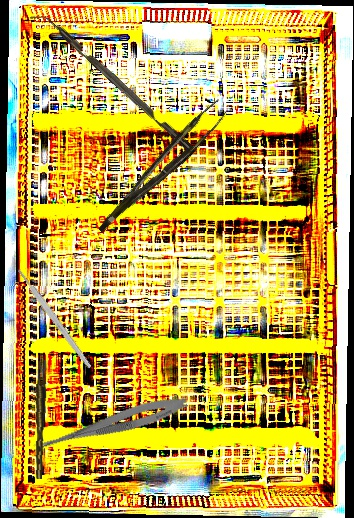Chopper: (29, 5, 197, 163)
Micro Scissor: (31, 389, 190, 462)
Scalpel Handle: (15, 266, 94, 371)
Tissue Forceps: (83, 98, 237, 233), (29, 359, 51, 480)
